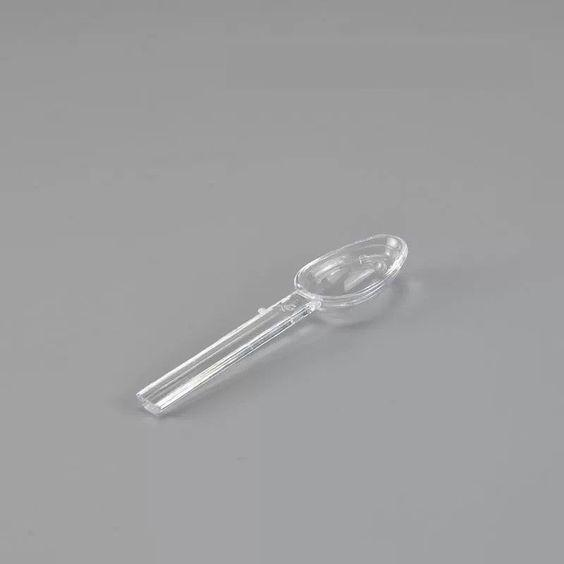PS: (135, 231, 414, 414)
